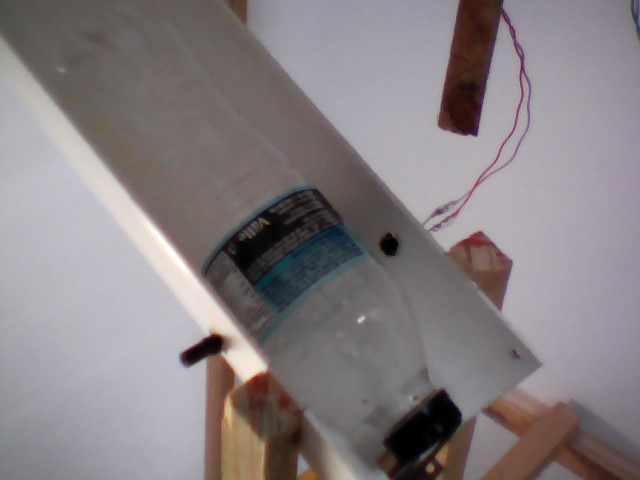plastico: (37, 1, 470, 467)
